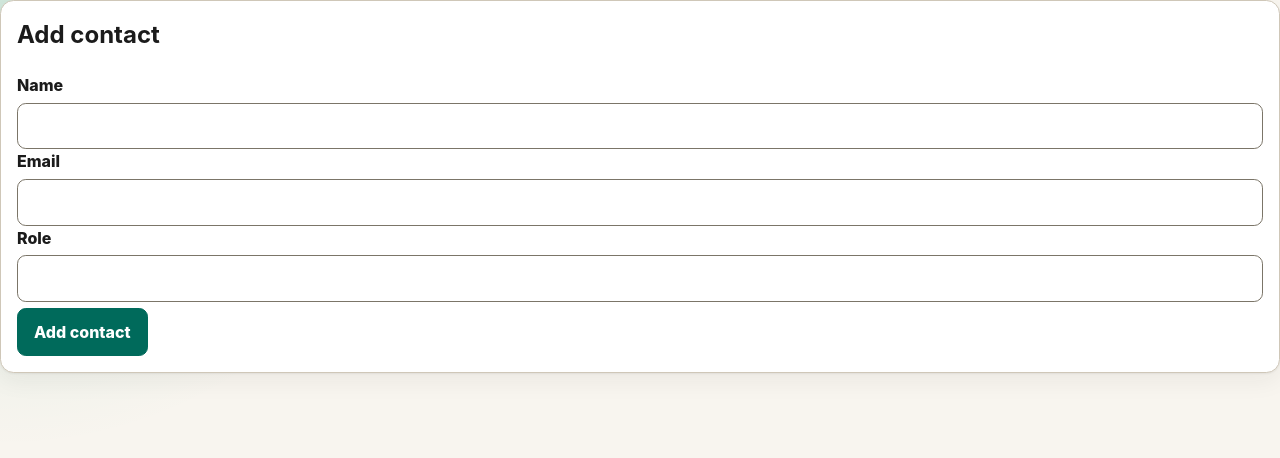
ContactForm › shows validation when the name is missing
Click the button "Add contact" at (82, 332), box [17, 308, 148, 356]
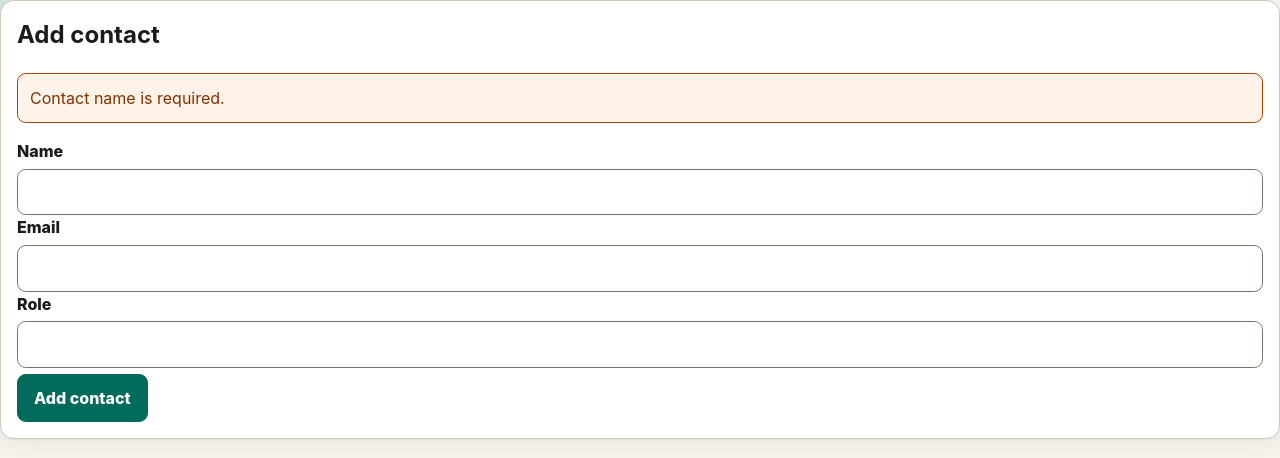
Result: the message reads "Contact name is required." at [30, 88, 225, 108]
